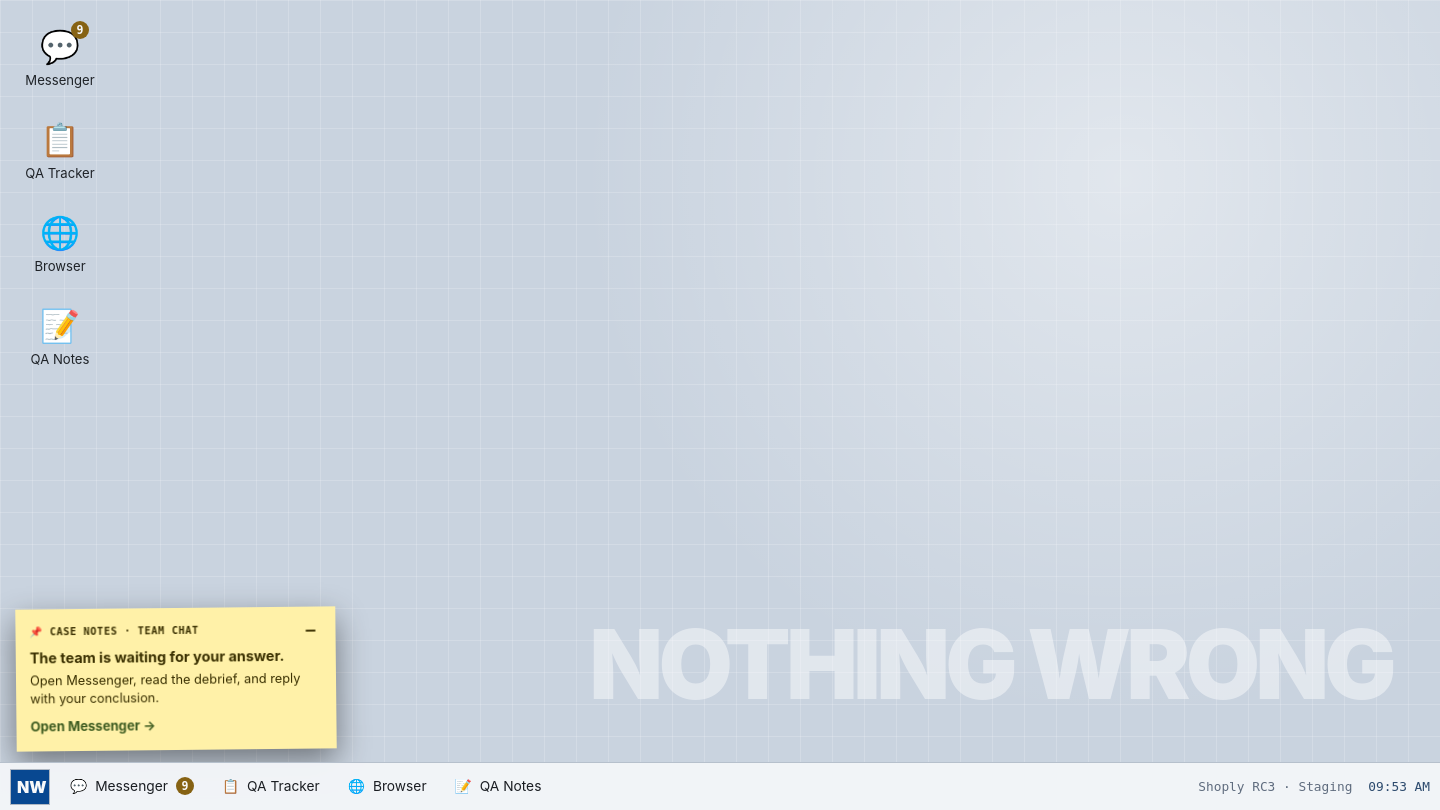
Test: QA workstation desktop › unlocks the Account Switcher in the Browser QA bar after T03
The image size is (1440, 810).
Click the 1st button "🌐 Browser" at (60, 244), box [16,202,104,285]
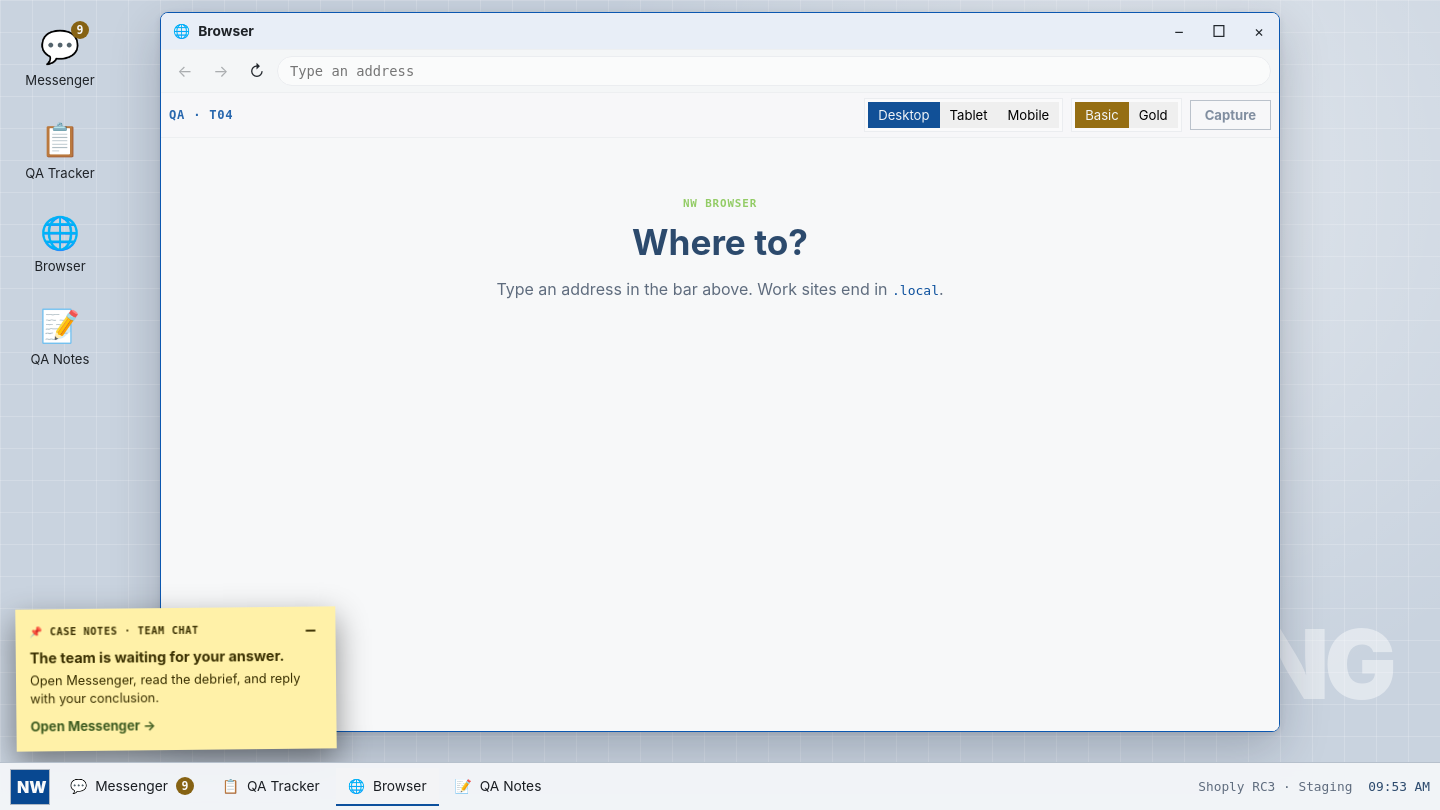
Check: the element named "Shoply account" is shown, box [1071,98,1182,132]
Check: the text "QA · T04" is shown, box [169,108,233,122]
